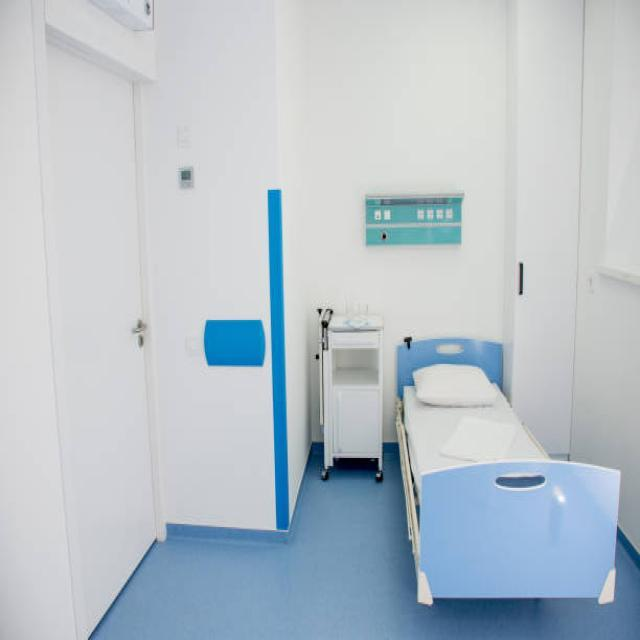bed: (394, 334, 620, 607)
tools_table: (301, 289, 394, 490)
